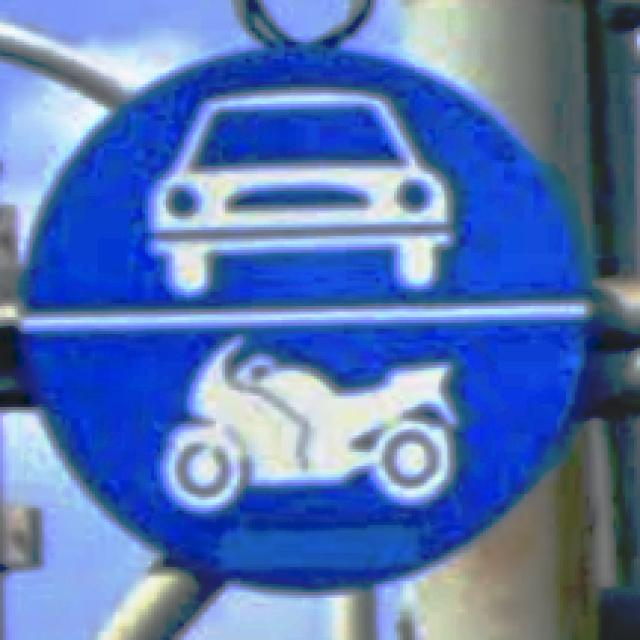carmotorcycle: (21, 45, 593, 592)
